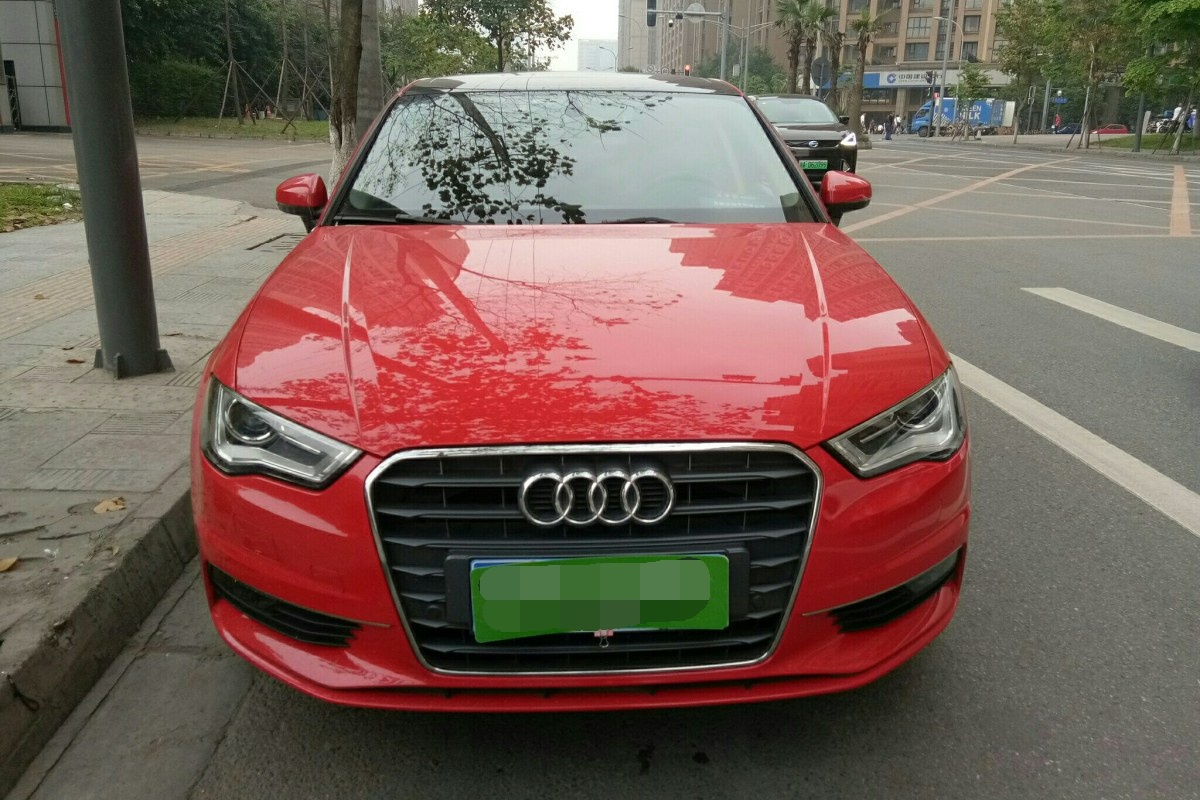family sedan: (188, 60, 1004, 714)
